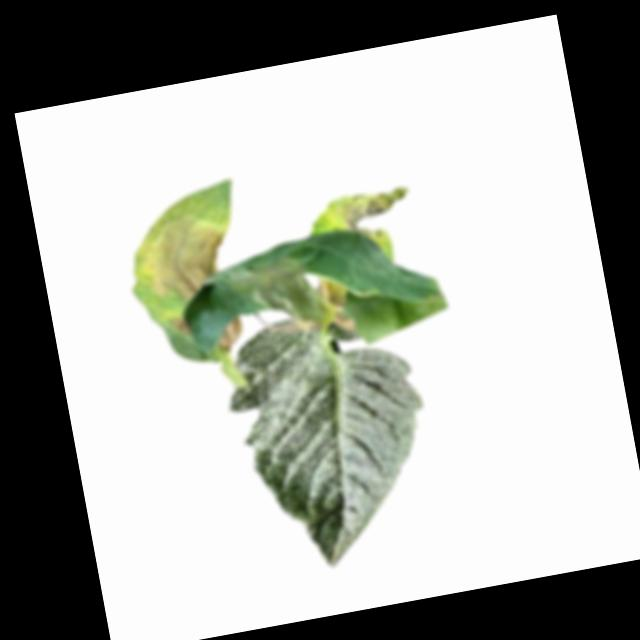Late_blight: (134, 205, 239, 306), (229, 250, 321, 342), (328, 183, 418, 252), (312, 272, 357, 336), (210, 313, 246, 353), (160, 314, 188, 339)
